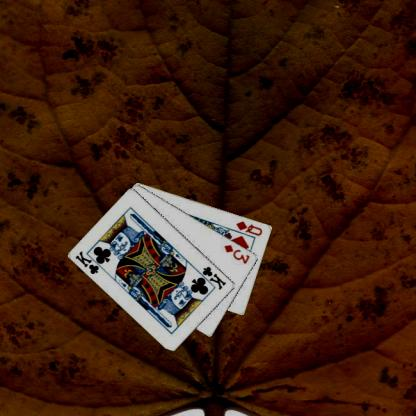3D: (222, 242, 252, 266)
KC: (73, 248, 106, 276), (194, 264, 228, 291)
QD: (234, 218, 264, 237)
